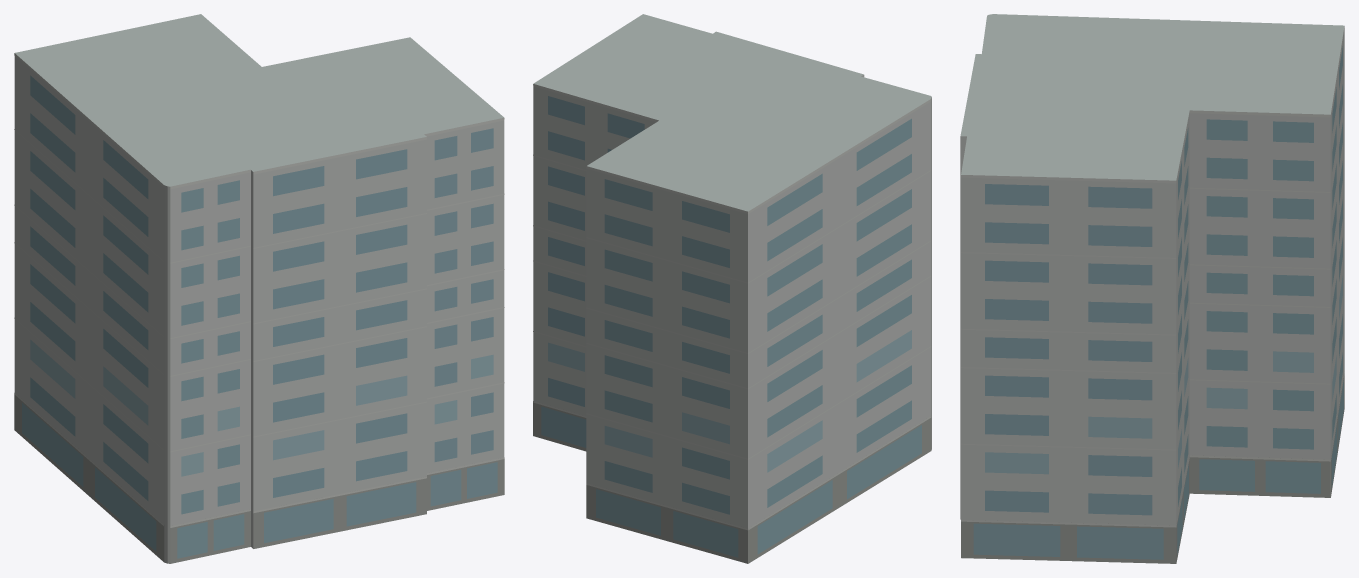
File: survey-upis-32941793.glb
3 renders of one model, left to right at view 1: azimuth 30°, elevation 25°; view 2: azimuth 150°, elevation 25°; view 3: azimuth 270°, elevation 25°, orthographic. The views are drawn at different scales.
Parts seen in each view (by area): view 1: survey-upis-32941793.tmp; view 2: survey-upis-32941793.tmp; view 3: survey-upis-32941793.tmp.
Boxes of the visible parts, bbox=[...] form: survey-upis-32941793.tmp: bbox=[14, 14, 504, 563]; survey-upis-32941793.tmp: bbox=[533, 14, 931, 563]; survey-upis-32941793.tmp: bbox=[960, 14, 1344, 563].
Size of the model in its own units: 31.31 by 33.55 by 30.5.
